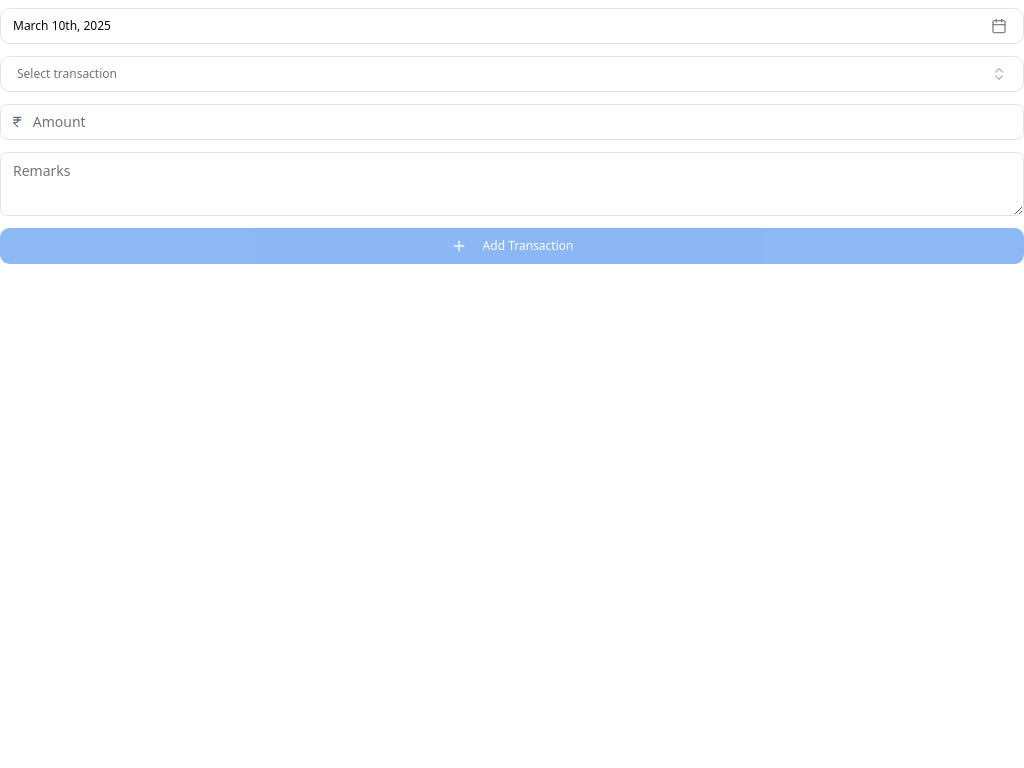
it: AddExpenseForm › selects a date from the calendar
This screenshot has width=1024, height=768.
Click the button "March 10th, 2025" at (62, 26), box [0,8,1023,44]
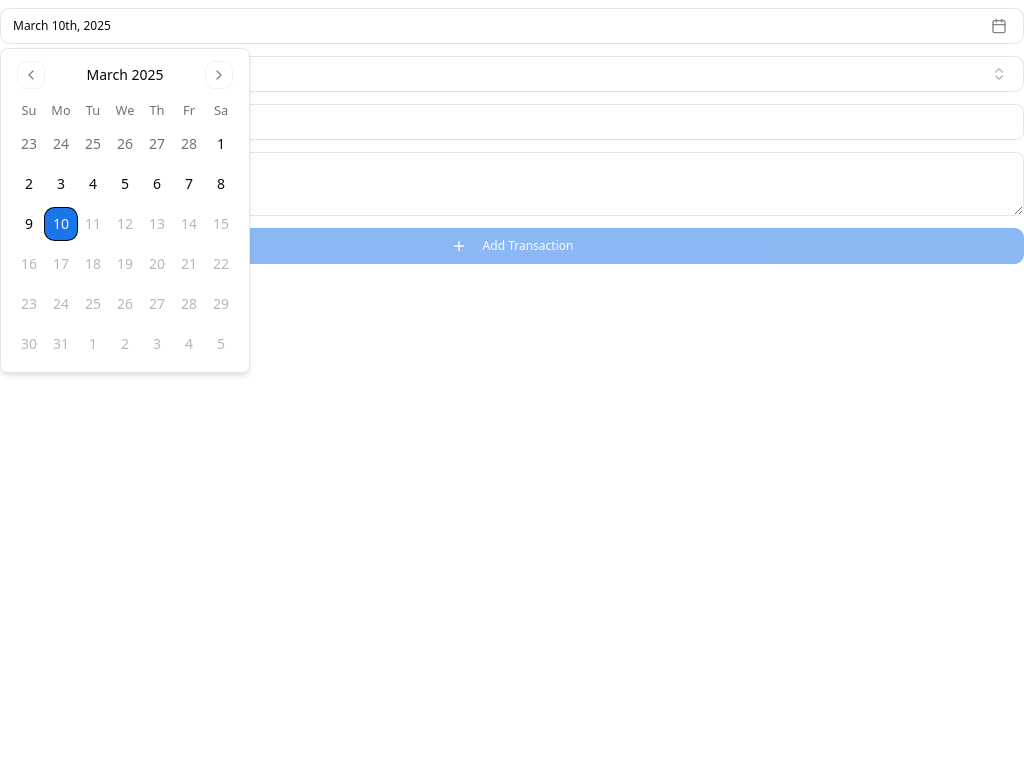
Click the 1st cell "23" at (29, 144), box [13,128,45,160]
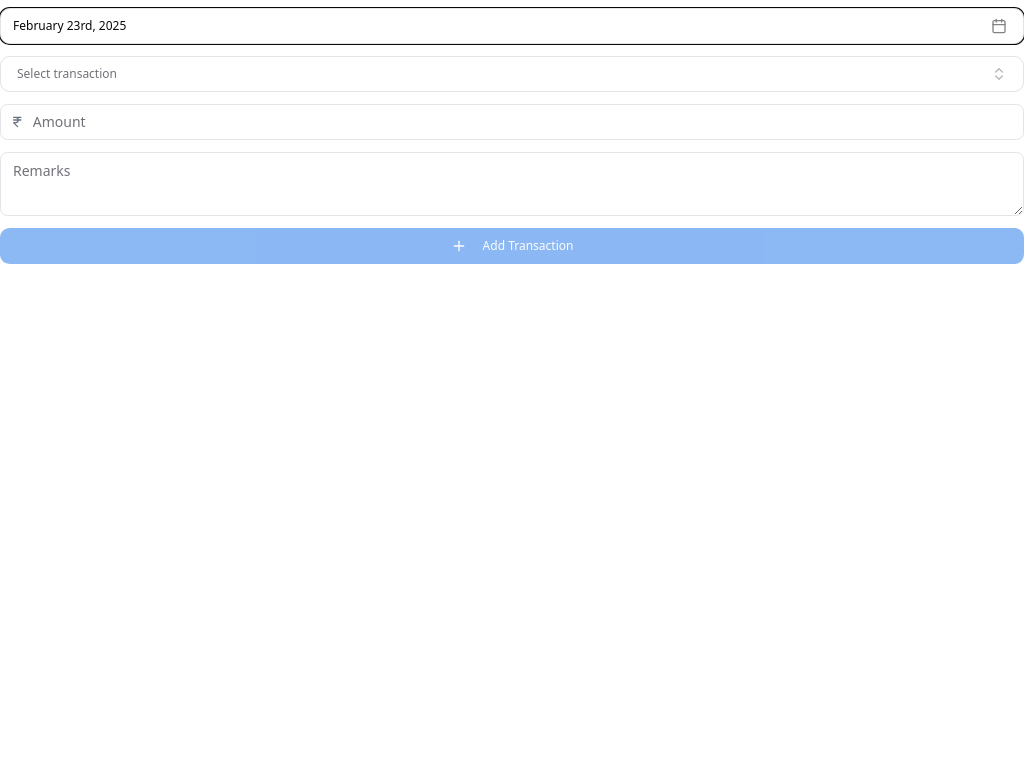
Check: the dialog is gone
